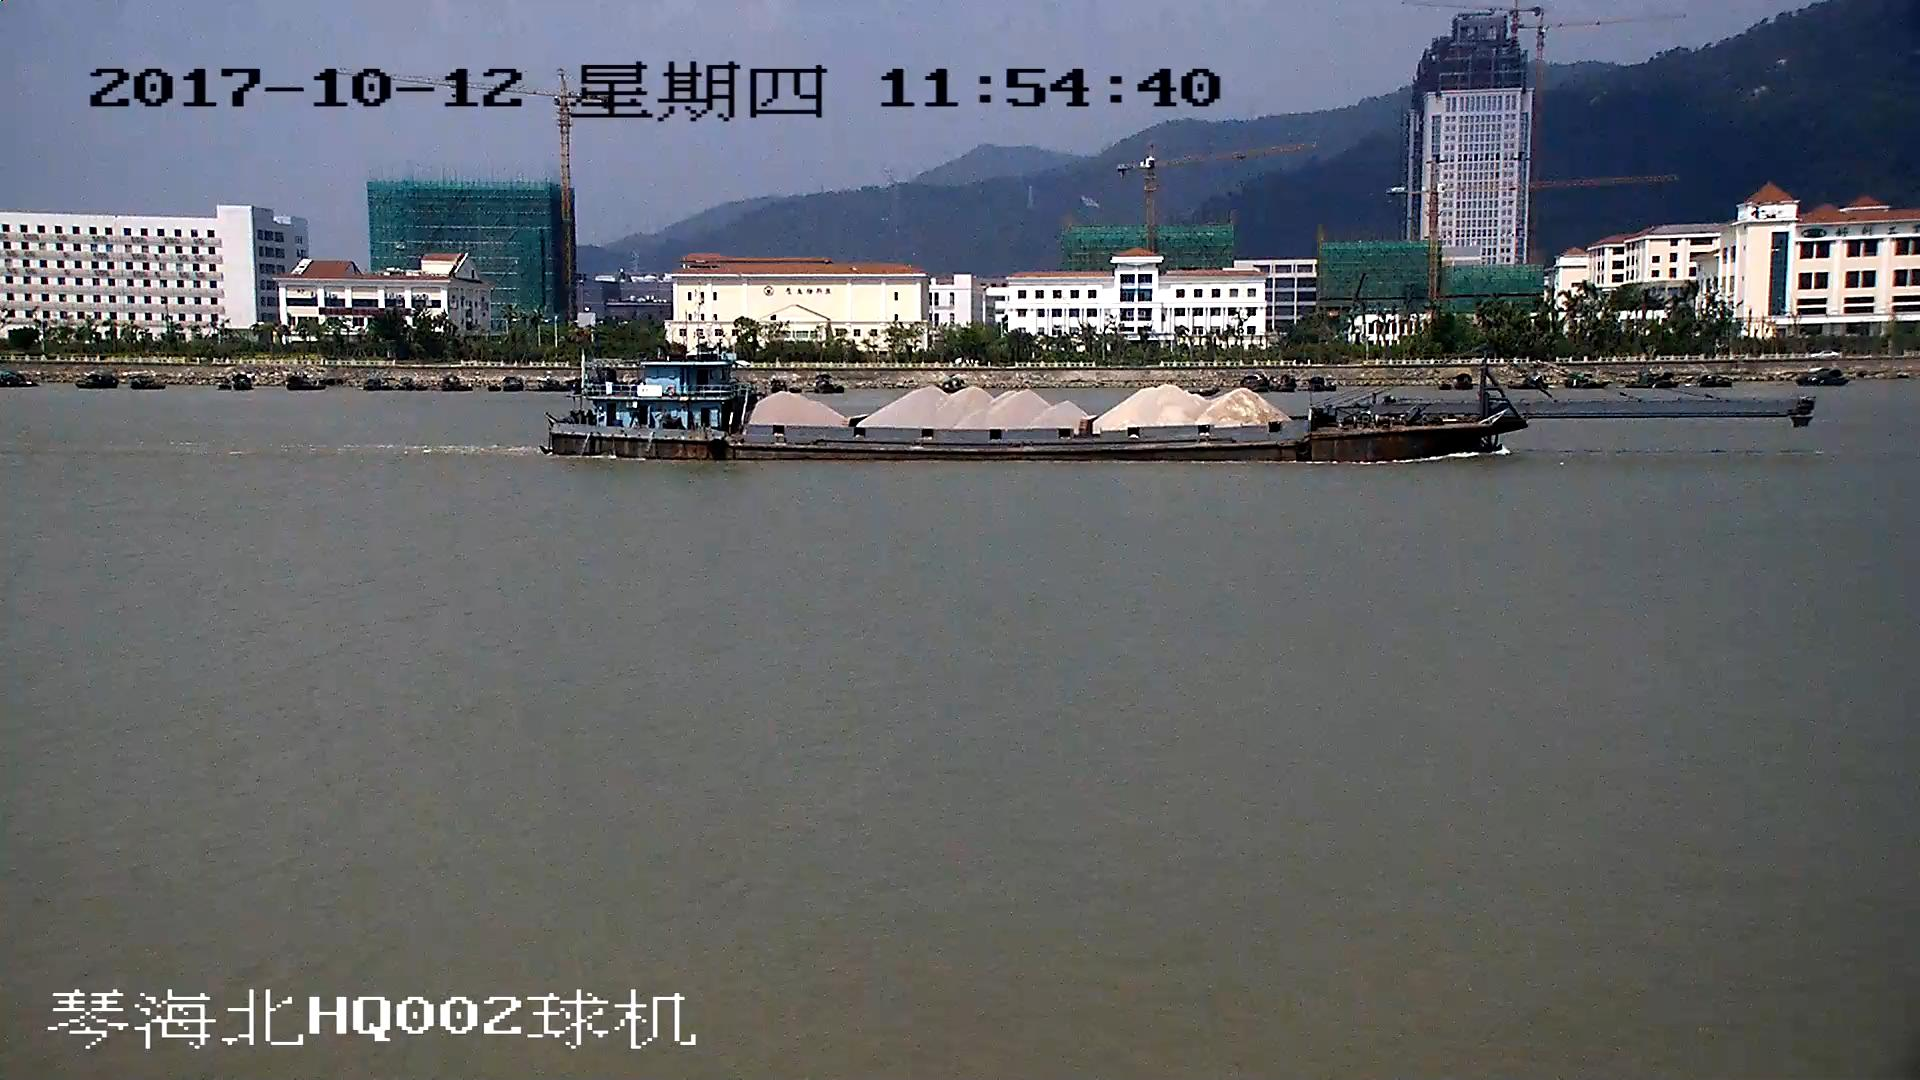ore carrier: (545, 350, 1820, 457)
